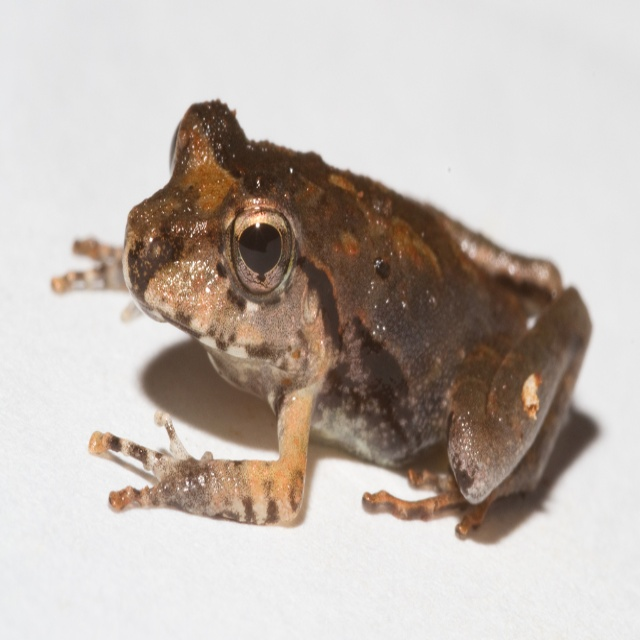Frog: (51, 95, 594, 537)
